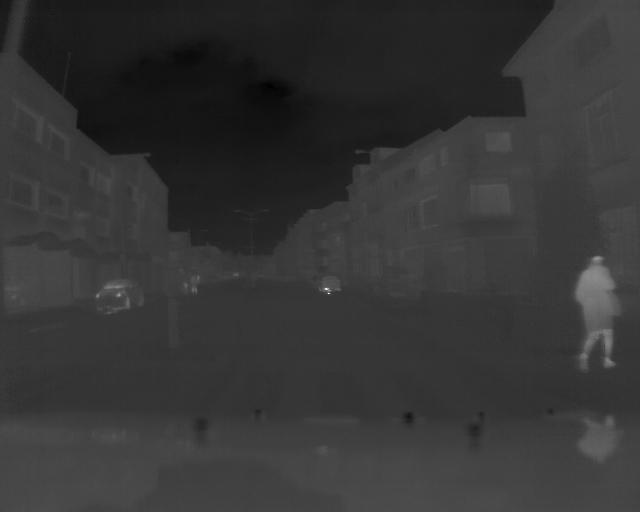car: (93, 277, 147, 312), (314, 273, 345, 295)
person: (565, 251, 620, 370), (186, 270, 199, 300)
